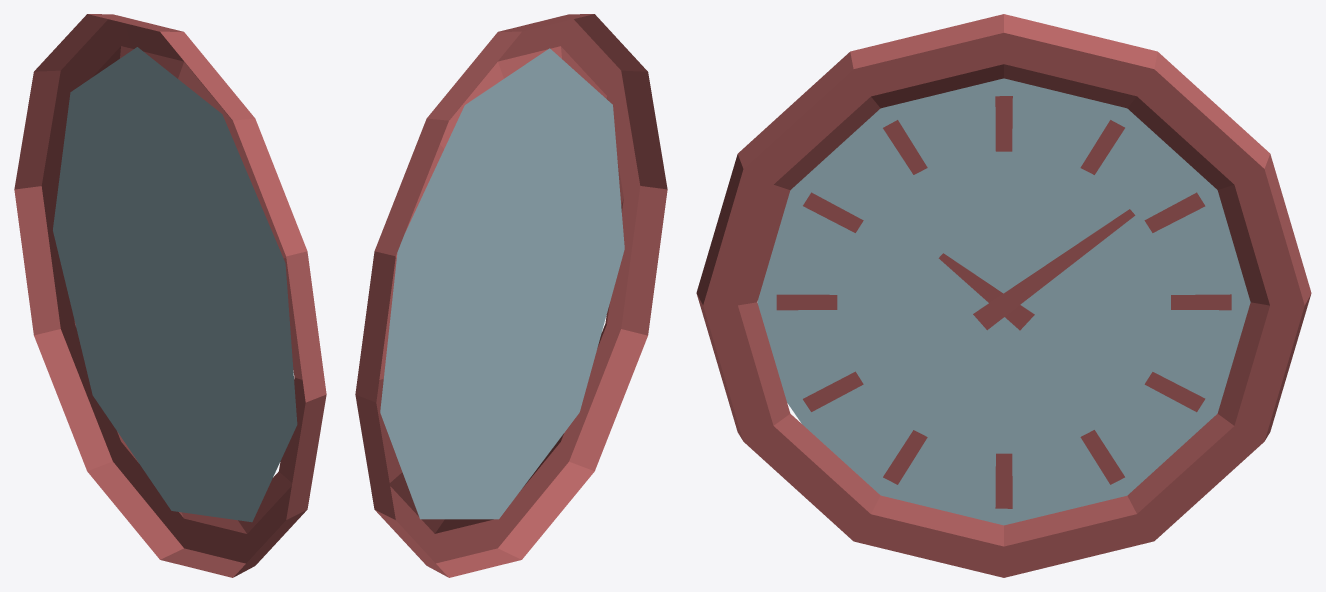
The model's file is Office2_clock_1.fbx.
3 views of the same model, side by side, from view 1: azimuth 30°, elevation 25°; view 2: azimuth 150°, elevation 25°; view 3: azimuth 270°, elevation 25° (orthographic). The views are drawn at different scales.
Visible parts, largest first — view 1: Office2_clock_1; view 2: Office2_clock_1; view 3: Office2_clock_1.
Boxes of the visible parts, x1,y1,x2,y2 form: Office2_clock_1: (14, 14, 326, 577); Office2_clock_1: (355, 14, 667, 577); Office2_clock_1: (696, 14, 1311, 577).
Bounding box in the file's own units: 5 × 104 × 104.
